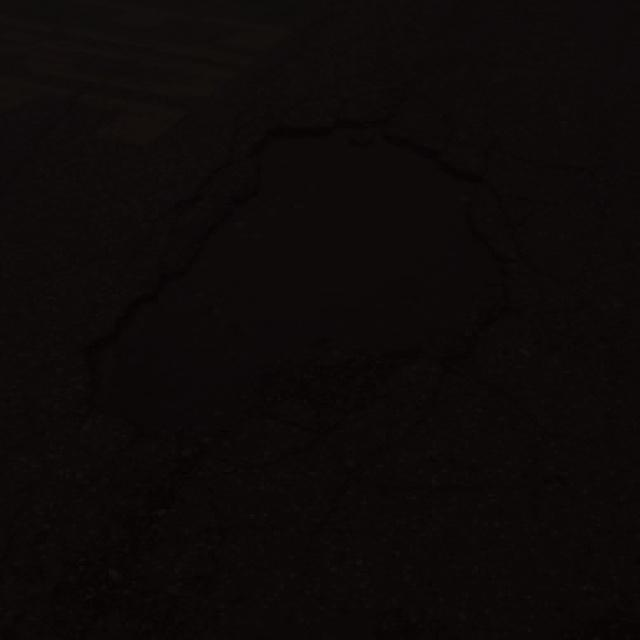Pothole: (58, 89, 523, 478)
